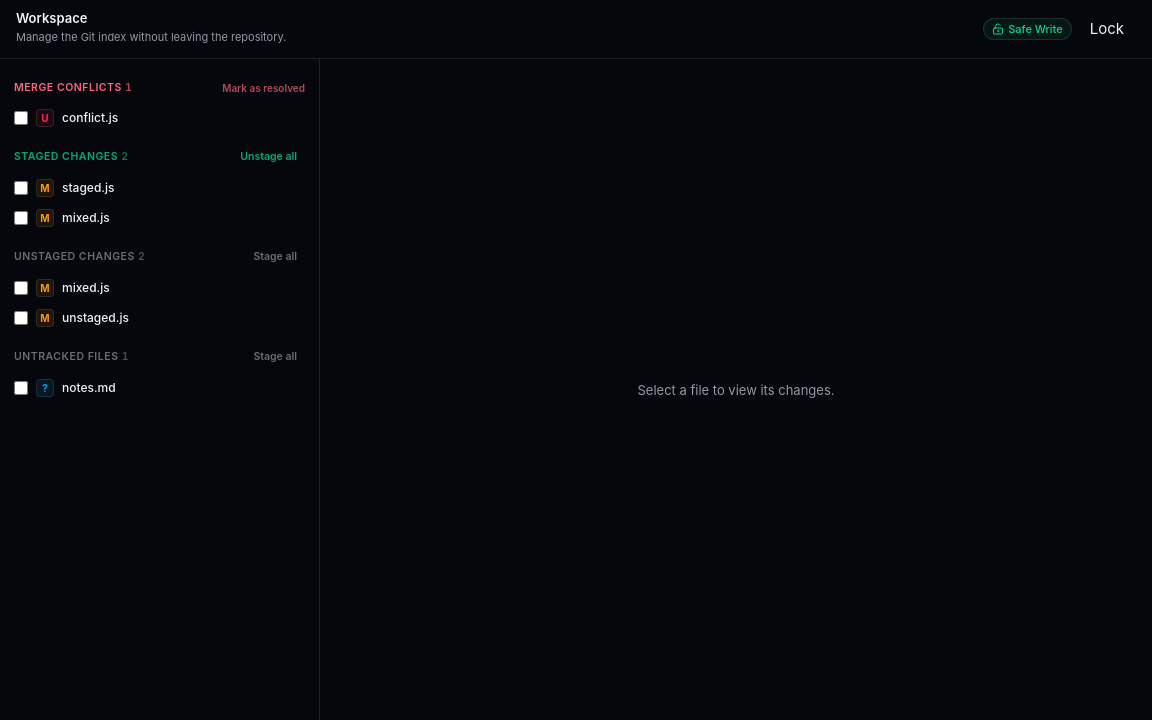
Test case: WorkspaceView › stages multiple selected paths with one operation
Click the checkbox named "Select unstaged.js for staging" at point(21, 318), box [14,311,28,325]
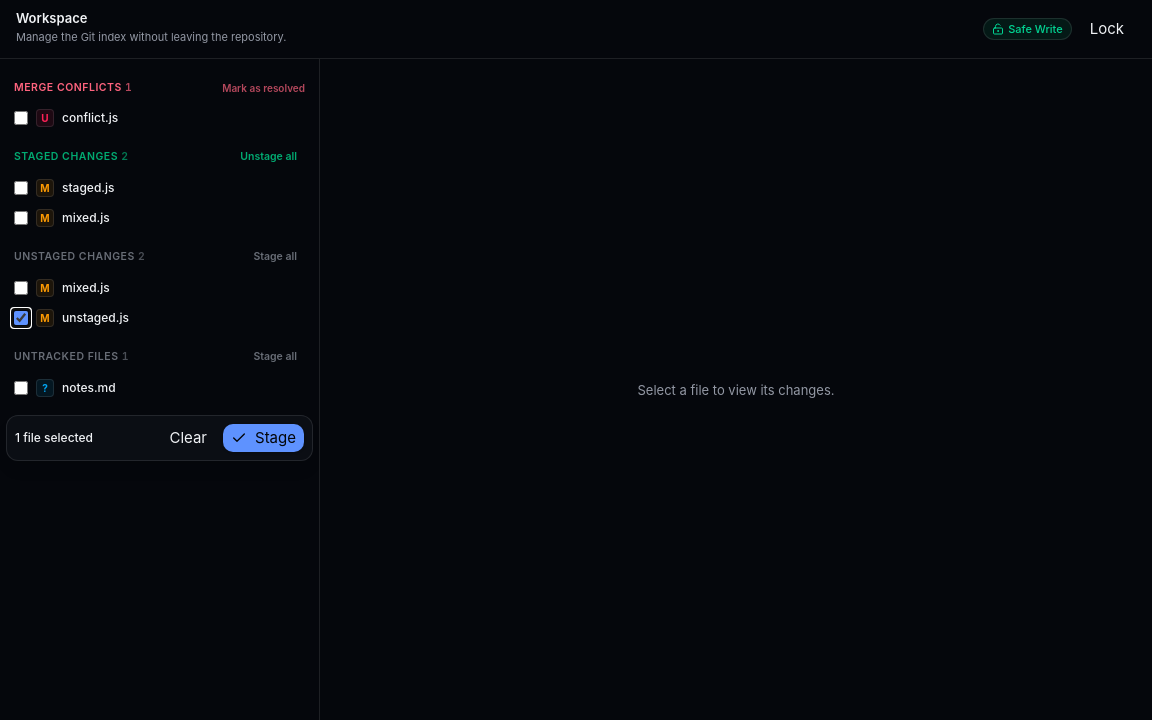
Click the checkbox named "Select notes.md for staging" at point(21, 388), box [14,381,28,395]
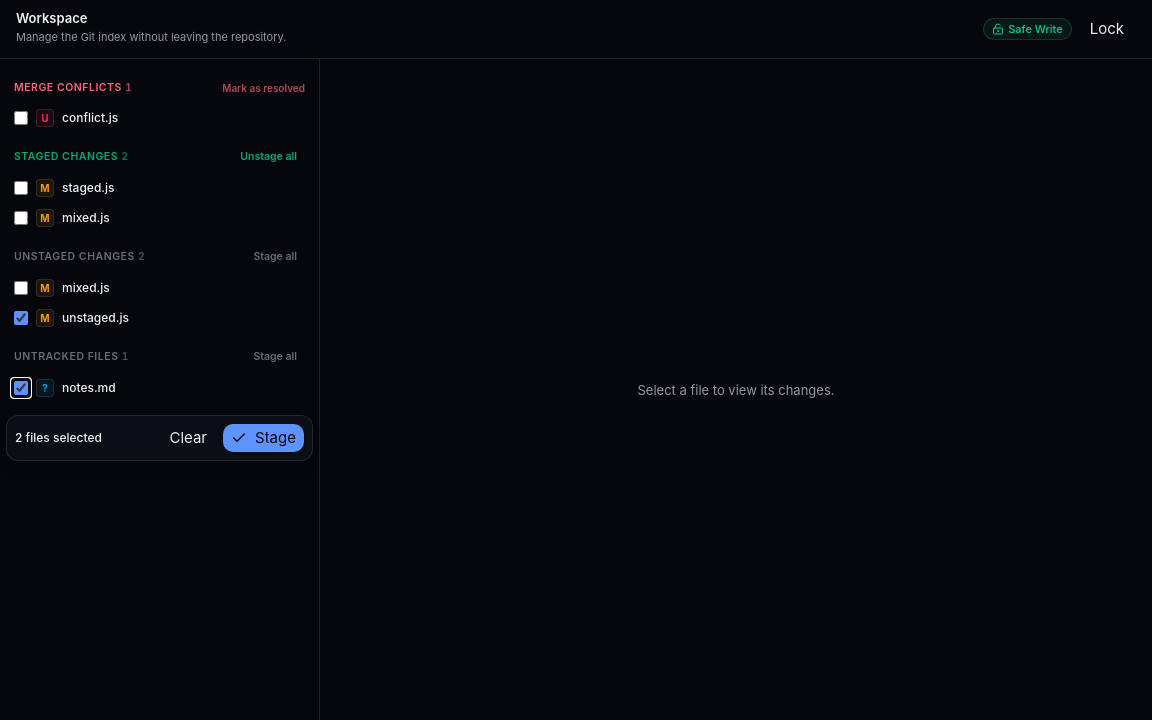
Check: the text "2 files selected" is shown, box [15,430,102,445]
Click the button "Stage" at point(264, 438), box [223,424,304,452]
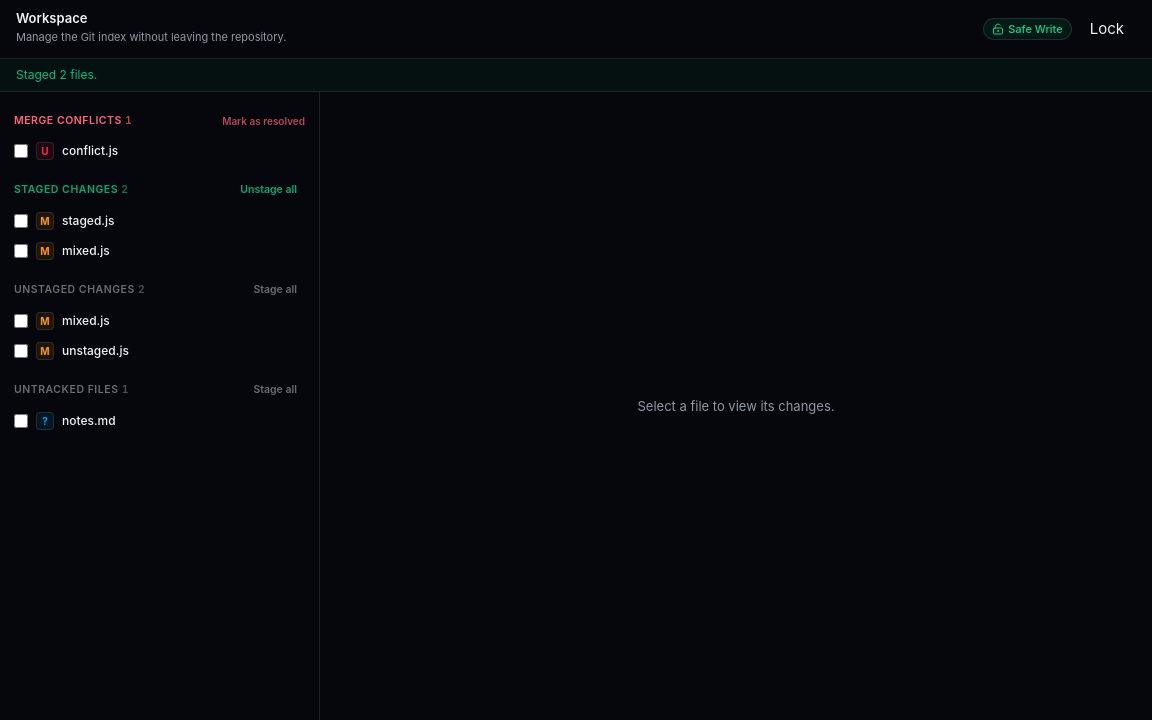
Check: the text "Staged 2 files." is shown, box [0,59,1151,92]
